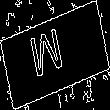M_S: (35, 24, 75, 86)
